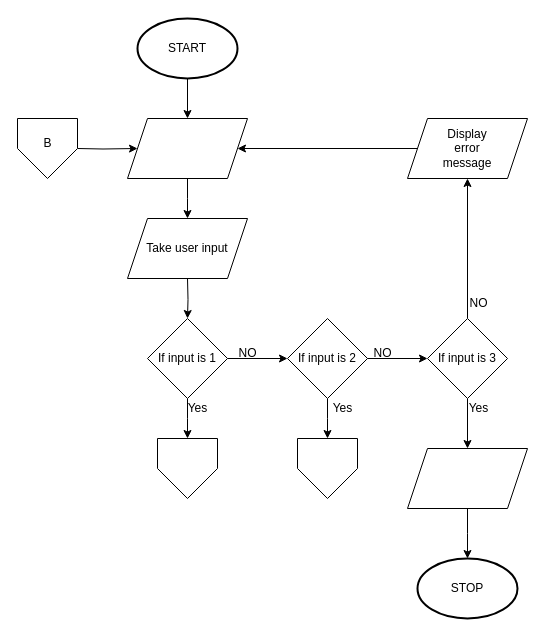
Image size: 545x636. Some labels were removed from this diagram. The shapes that lost their labels are listed below. From the top down, each one's centre as x and y in pixels, then its label:
the point at 187,148: Display menu with 3 options
the point at 187,468: Rent
the point at 327,468: Return
the point at 467,478: Display thankyou message
